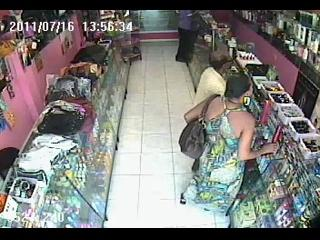Normal: (180, 70, 280, 216), (178, 94, 219, 160), (192, 50, 233, 106), (175, 11, 202, 66)
